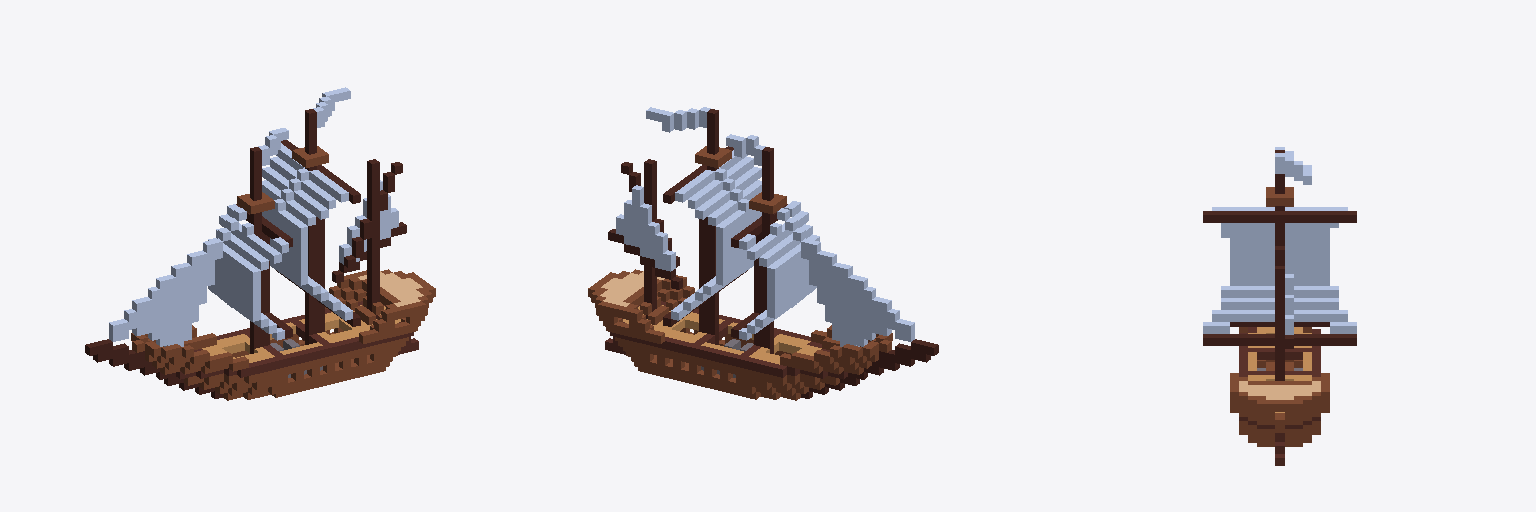
The picture shows the model from 3 angles: view 1: azimuth 30°, elevation 25°; view 2: azimuth 150°, elevation 25°; view 3: azimuth 270°, elevation 25°; orthographic projection.
Parts seen in each view (by area): view 1: object 1; view 2: object 1; view 3: object 1.
Part boxes in pixels (left/top/right/bottom): object 1: left=85, top=87, right=435, bottom=400; object 1: left=588, top=107, right=938, bottom=400; object 1: left=1203, top=147, right=1356, bottom=465.
Size of the model in its own units: 4.3 by 3.2 by 1.7.
1 materials, 1 textured.